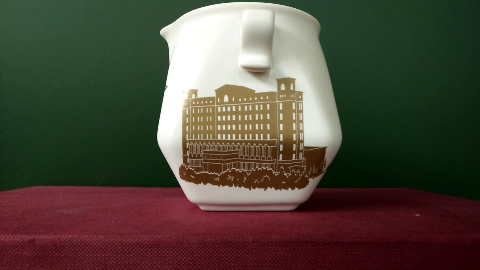law: (188, 96, 306, 185)
